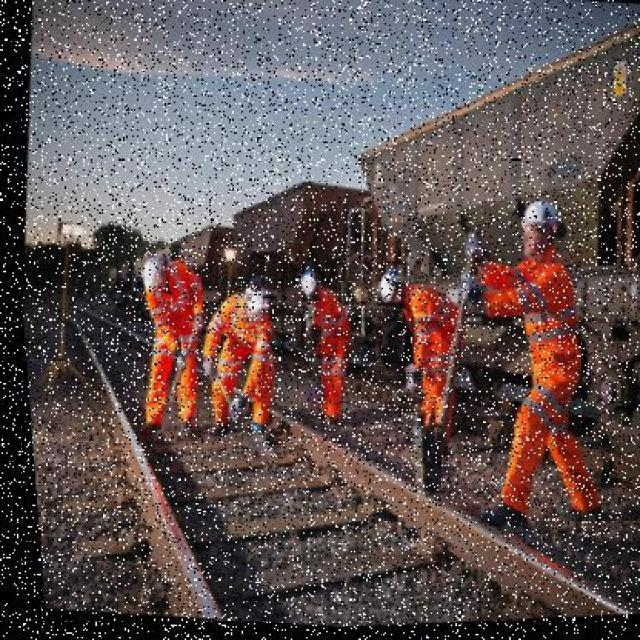helmet: (506, 197, 566, 245), (368, 271, 401, 312), (289, 269, 319, 301), (132, 259, 158, 292), (243, 290, 267, 323)
vest: (501, 263, 567, 347), (148, 291, 200, 335), (394, 283, 434, 339), (212, 302, 248, 354), (306, 301, 333, 341)
